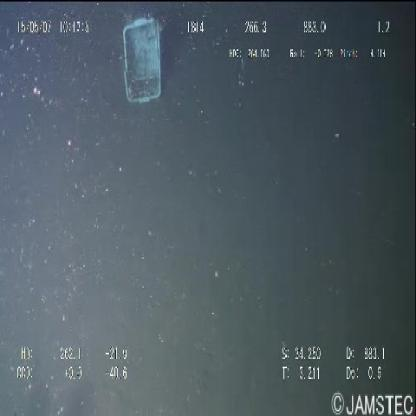Rác: (118, 10, 165, 107)
